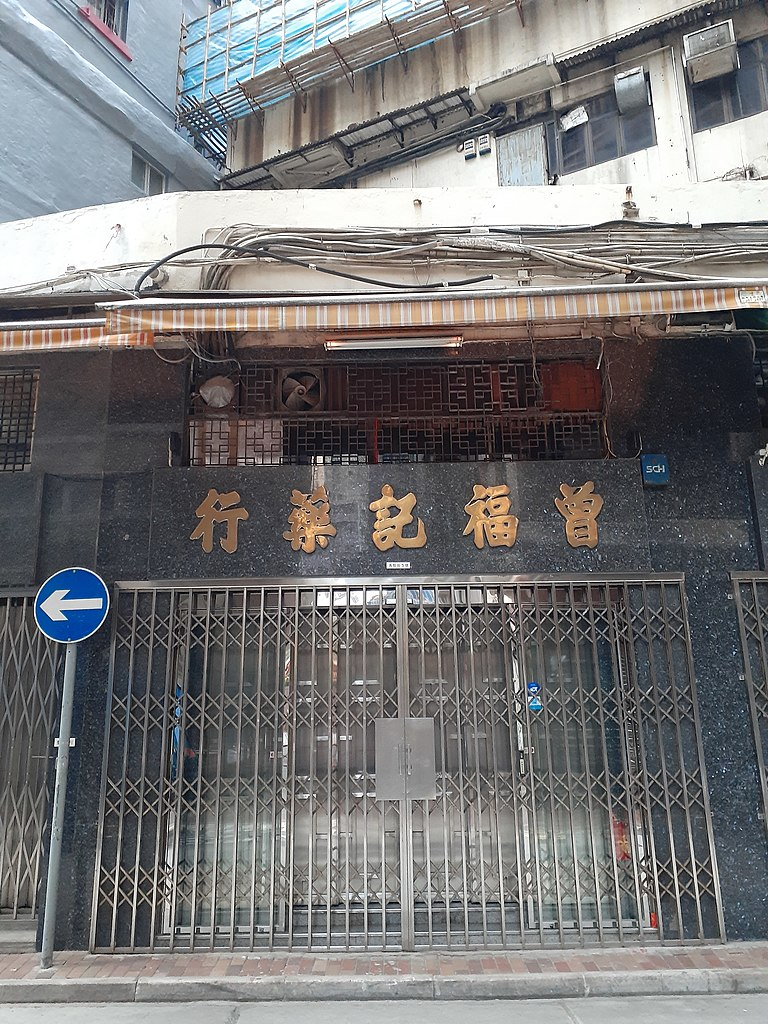Turn Left: (32, 569, 109, 645)
